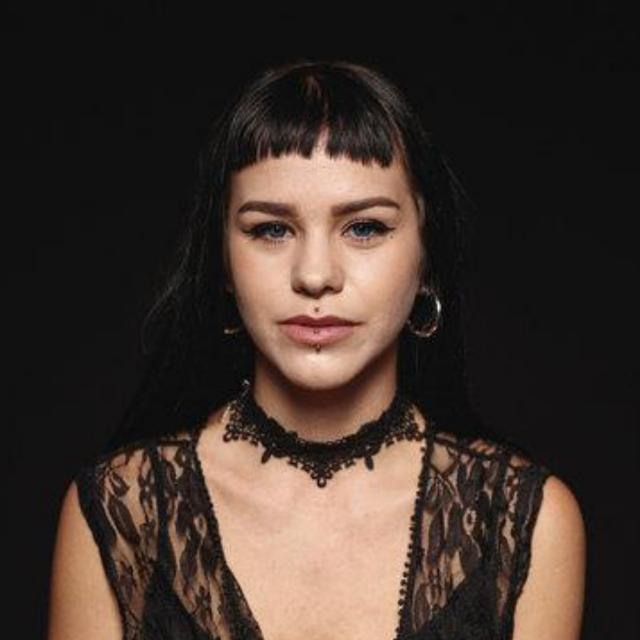Natural: (190, 94, 451, 404)
